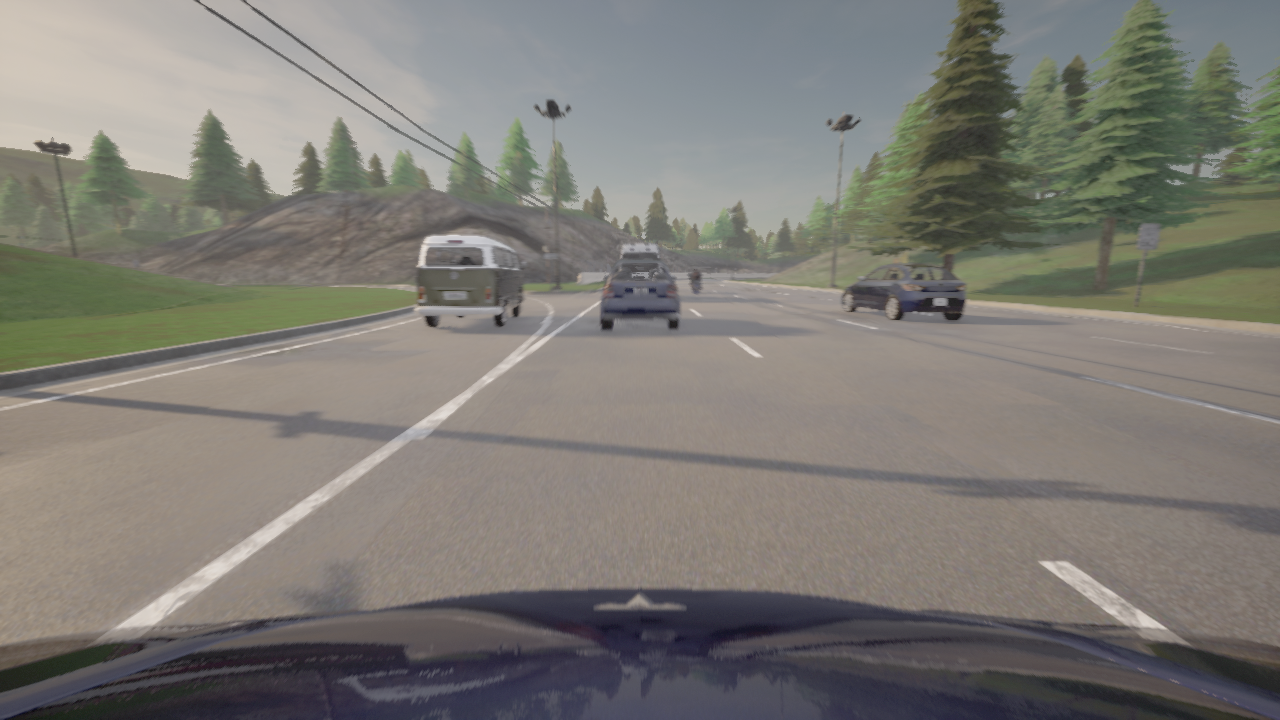cyclist: (0, 588, 1279, 719), (415, 234, 526, 327), (840, 264, 967, 320), (601, 259, 679, 329), (620, 243, 659, 258), (690, 275, 701, 293)
